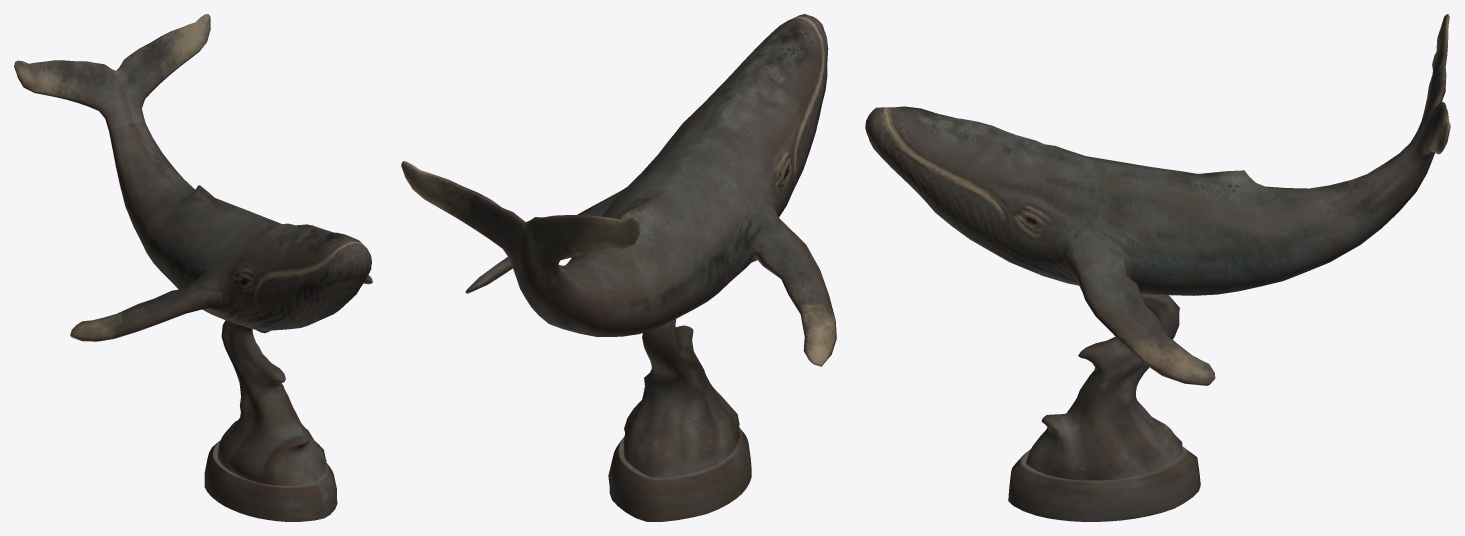
File: bronze_whale_statue.glb
3 views of the same model, side by side, from view 1: azimuth 30°, elevation 25°; view 2: azimuth 150°, elevation 25°; view 3: azimuth 270°, elevation 25° (orthographic). The views are drawn at different scales.
Parts seen in each view (by area): view 1: bronze_whale_statue; view 2: bronze_whale_statue; view 3: bronze_whale_statue.
Boxes of the visible parts, x1=… form: bronze_whale_statue: x1=14, y1=14, x2=372, y2=521; bronze_whale_statue: x1=401, y1=14, x2=836, y2=521; bronze_whale_statue: x1=865, y1=14, x2=1450, y2=521.
Bounding box in the file's own units: 0.932 × 1.07 × 1.37.
1 material, 1 textured.
